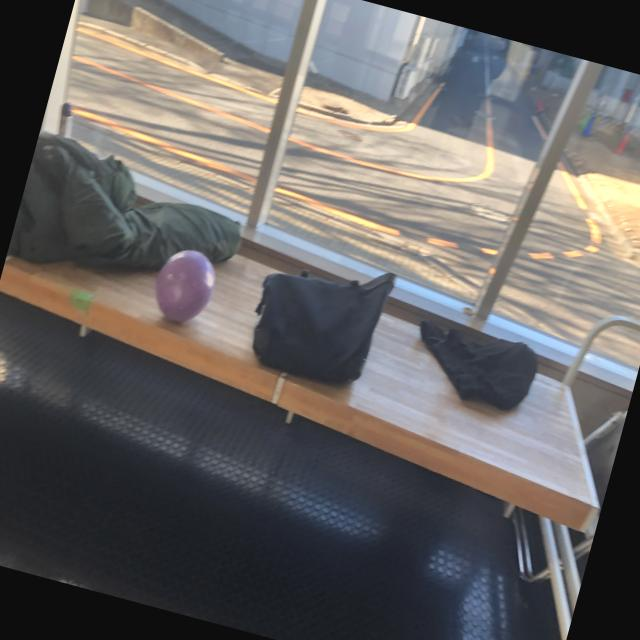purple_ball: (148, 241, 222, 330)
